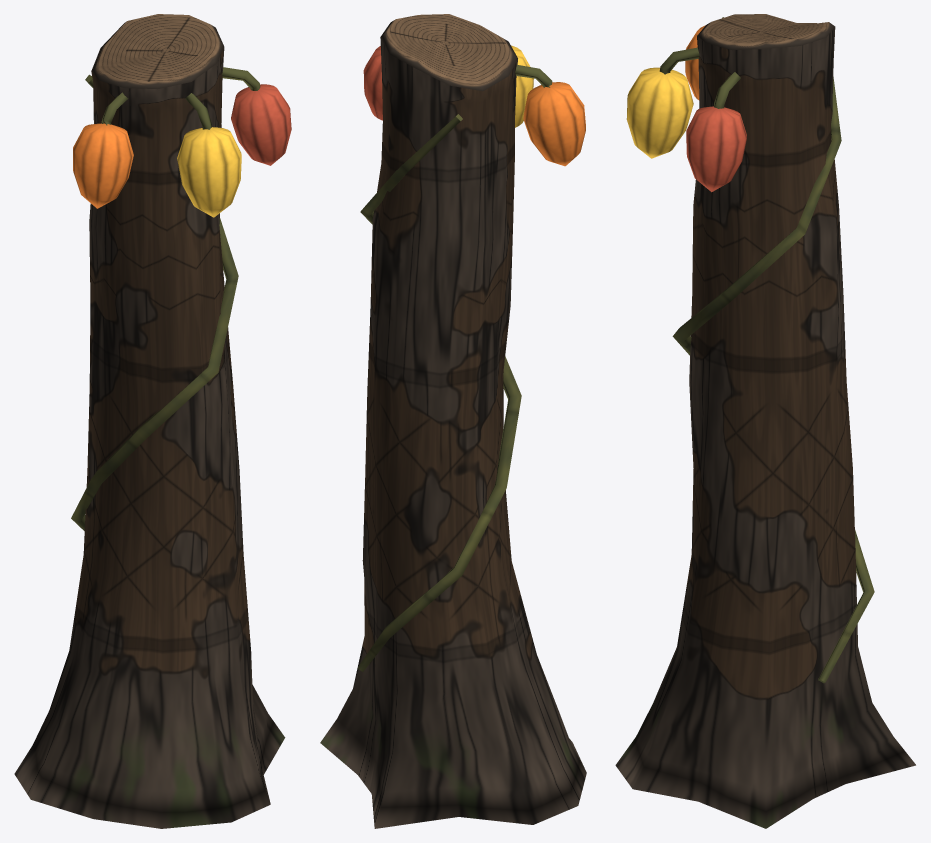
The model's file is totem_warp_cuyabeno_hp_LOD2.glb.
3 renders of one model, left to right at view 1: azimuth 30°, elevation 25°; view 2: azimuth 150°, elevation 25°; view 3: azimuth 270°, elevation 25°, orthographic. The views are drawn at different scales.
Visible parts, largest first — view 1: Totem_LOD2; view 2: Totem_LOD2; view 3: Totem_LOD2.
Boxes of the visible parts, left/top/right/bottom form: Totem_LOD2: left=14, top=14, right=291, bottom=828; Totem_LOD2: left=320, top=14, right=586, bottom=828; Totem_LOD2: left=615, top=14, right=915, bottom=828.
Bounding box in the file's own units: 0.95 × 2.61 × 0.95.
1 material, 1 textured.
